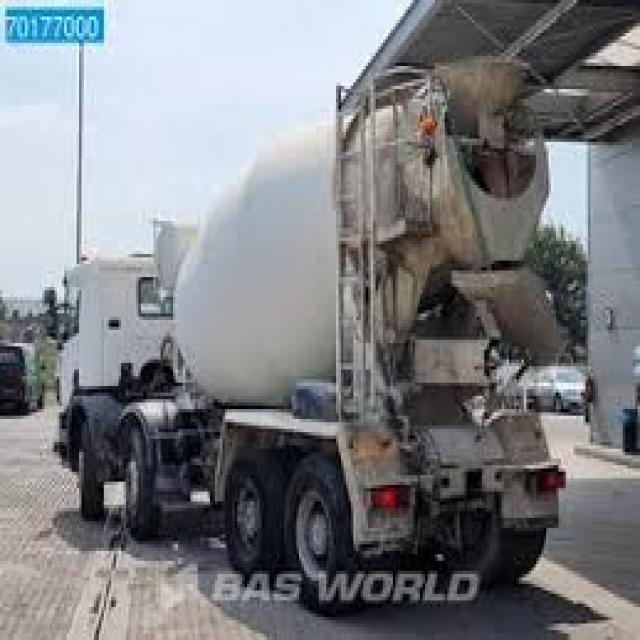Mixer Truck: (44, 57, 569, 613)
